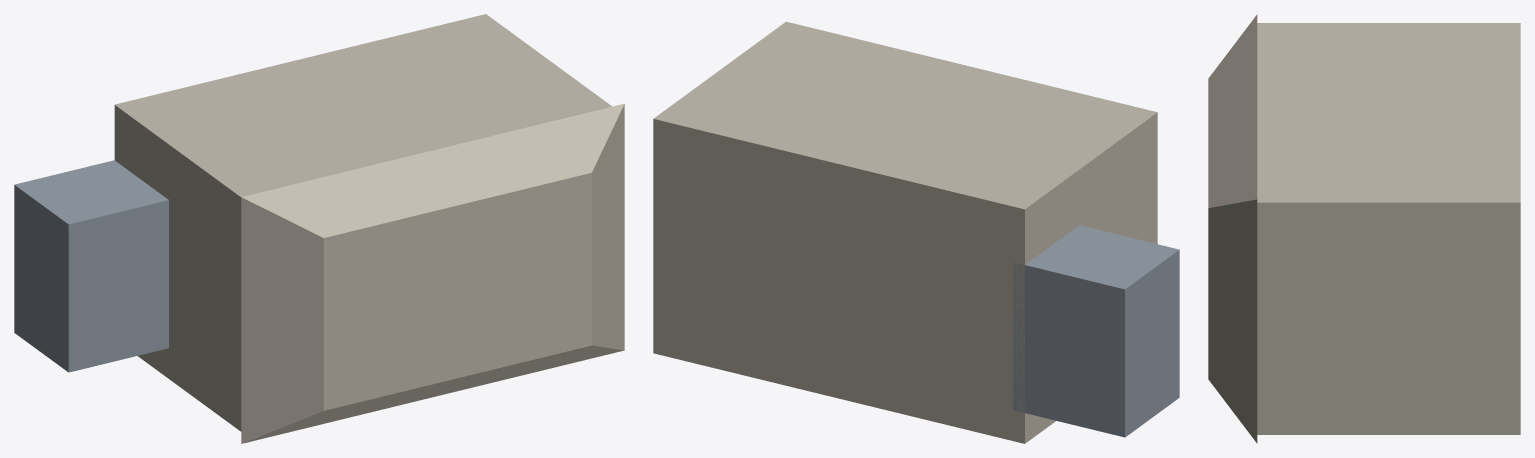
File: romanov-1857-production-candidate-v1.gltf
The picture shows the model from 3 angles, left to right: view 1: azimuth 30°, elevation 25°; view 2: azimuth 150°, elevation 25°; view 3: azimuth 270°, elevation 25°; orthographic projection.
Parts seen in each view (by area): view 1: documented__pre_restoration_roof, documented__masonry_lower, documented__masonry_upper, hypothesis__west_service_mass; view 2: documented__masonry_lower, hypothesis__west_service_mass, documented__masonry_upper; view 3: documented__masonry_lower, documented__masonry_upper, documented__pre_restoration_roof.
Part boxes in pixels (<box>): documented__pre_restoration_roof: <box>241,103,624,443</box>; documented__masonry_lower: <box>114,14,558,392</box>; documented__masonry_upper: <box>187,67,611,431</box>; hypothesis__west_service_mass: <box>14,160,168,372</box>; documented__masonry_lower: <box>653,65,1097,443</box>; hypothesis__west_service_mass: <box>1013,225,1179,437</box>; documented__masonry_upper: <box>727,21,1157,243</box>; documented__masonry_lower: <box>1375,23,1520,434</box>; documented__masonry_upper: <box>1257,23,1375,434</box>; documented__pre_restoration_roof: <box>1208,14,1257,443</box>.
Size of the model in its own units: 16.2 by 8 by 9.25.
